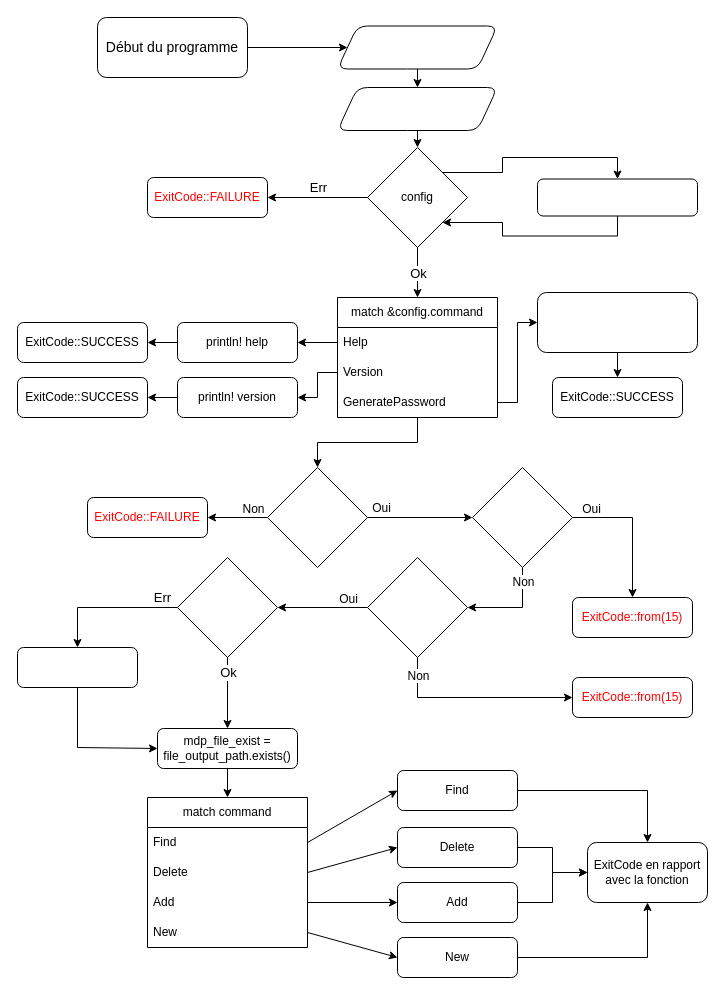
The diagram is 725 pixels wide and 995 high, and some of its shapes have lost their labels. The centre of each missing label's shape, as x and y in pixels:
ch dir répertoire: pixel 417 607
Définir exec name et exec path: pixel 417 47
env::var("pass"): pixel 227 607
file_output is dir ?: pixel 522 517
generator::gen_pass(len): pixel 617 322
Get pw from CLI: pixel 77 667
mdp_locale = locale::set_lang_vec(): pixel 417 108
openssl in $PATH: pixel 317 517
parse_args(&mdp_laocale): pixel 617 197
